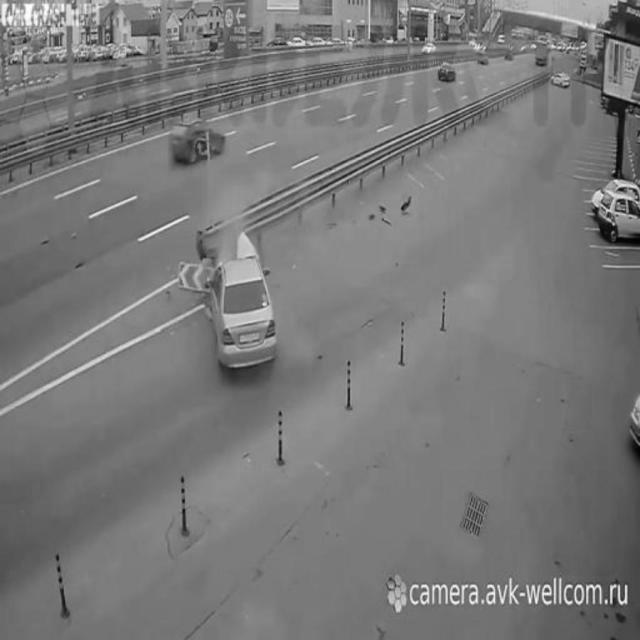vehicle: (210, 255, 276, 377), (170, 112, 226, 168), (598, 184, 639, 245), (548, 66, 574, 92), (532, 35, 550, 70), (436, 61, 460, 85), (419, 41, 441, 58), (475, 47, 492, 67)
